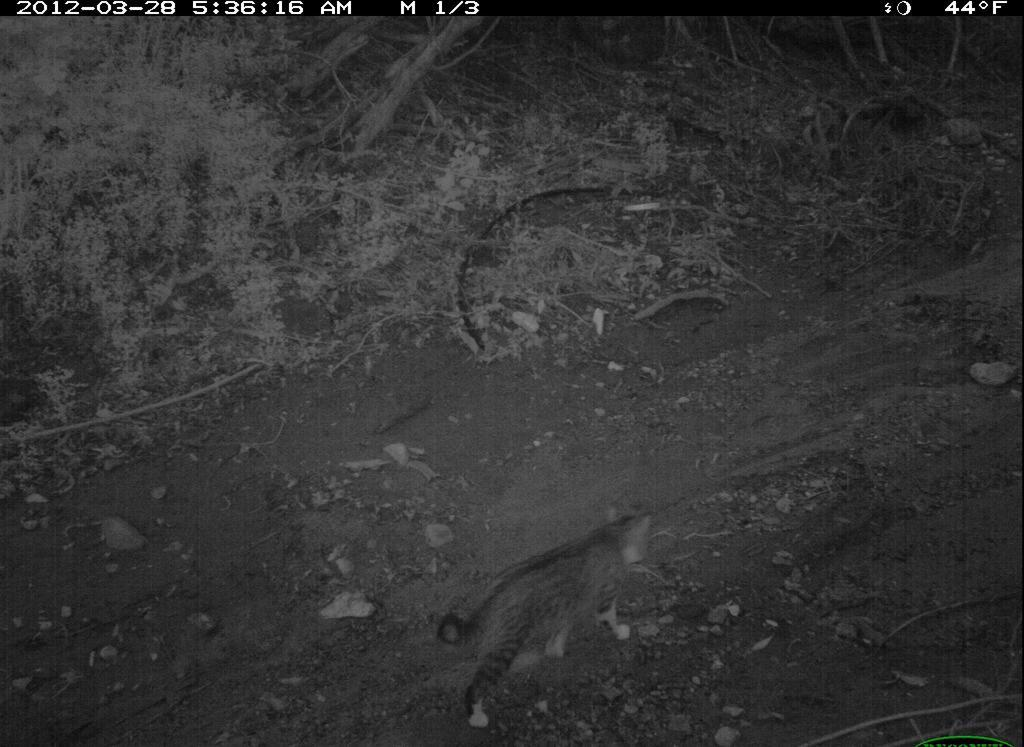cat: (424, 509, 660, 735)
